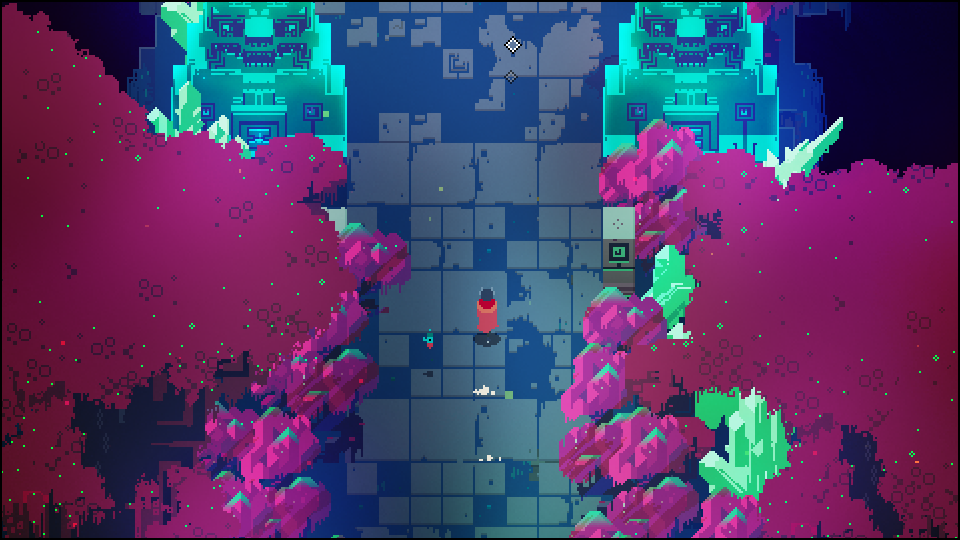player: (474, 287, 500, 346)
